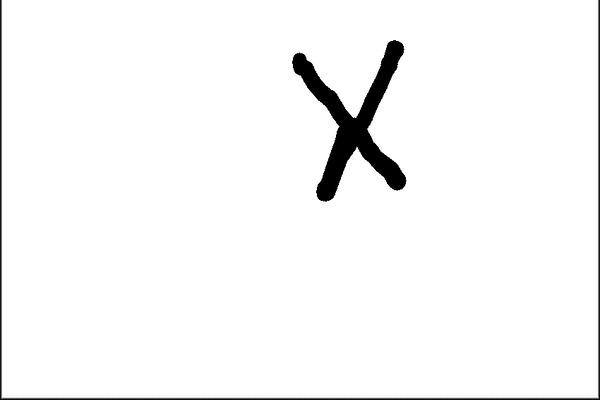X: (268, 28, 422, 208)
